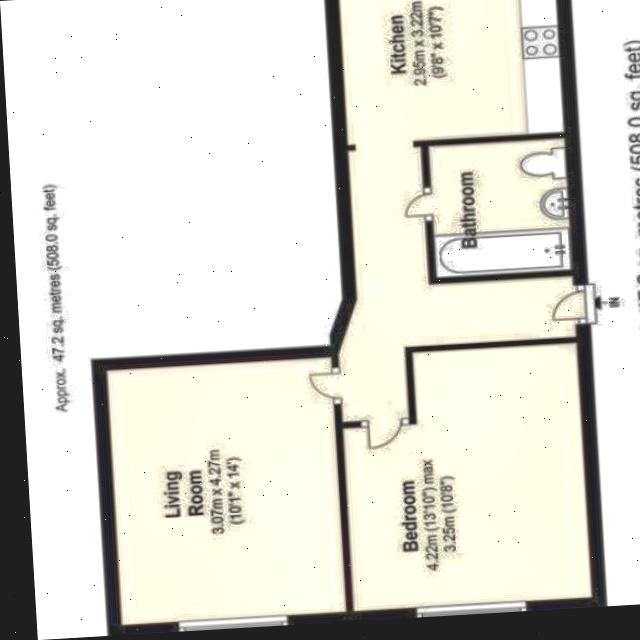room: (339, 0, 576, 420), (339, 343, 591, 610), (108, 357, 344, 623), (430, 138, 571, 276)
